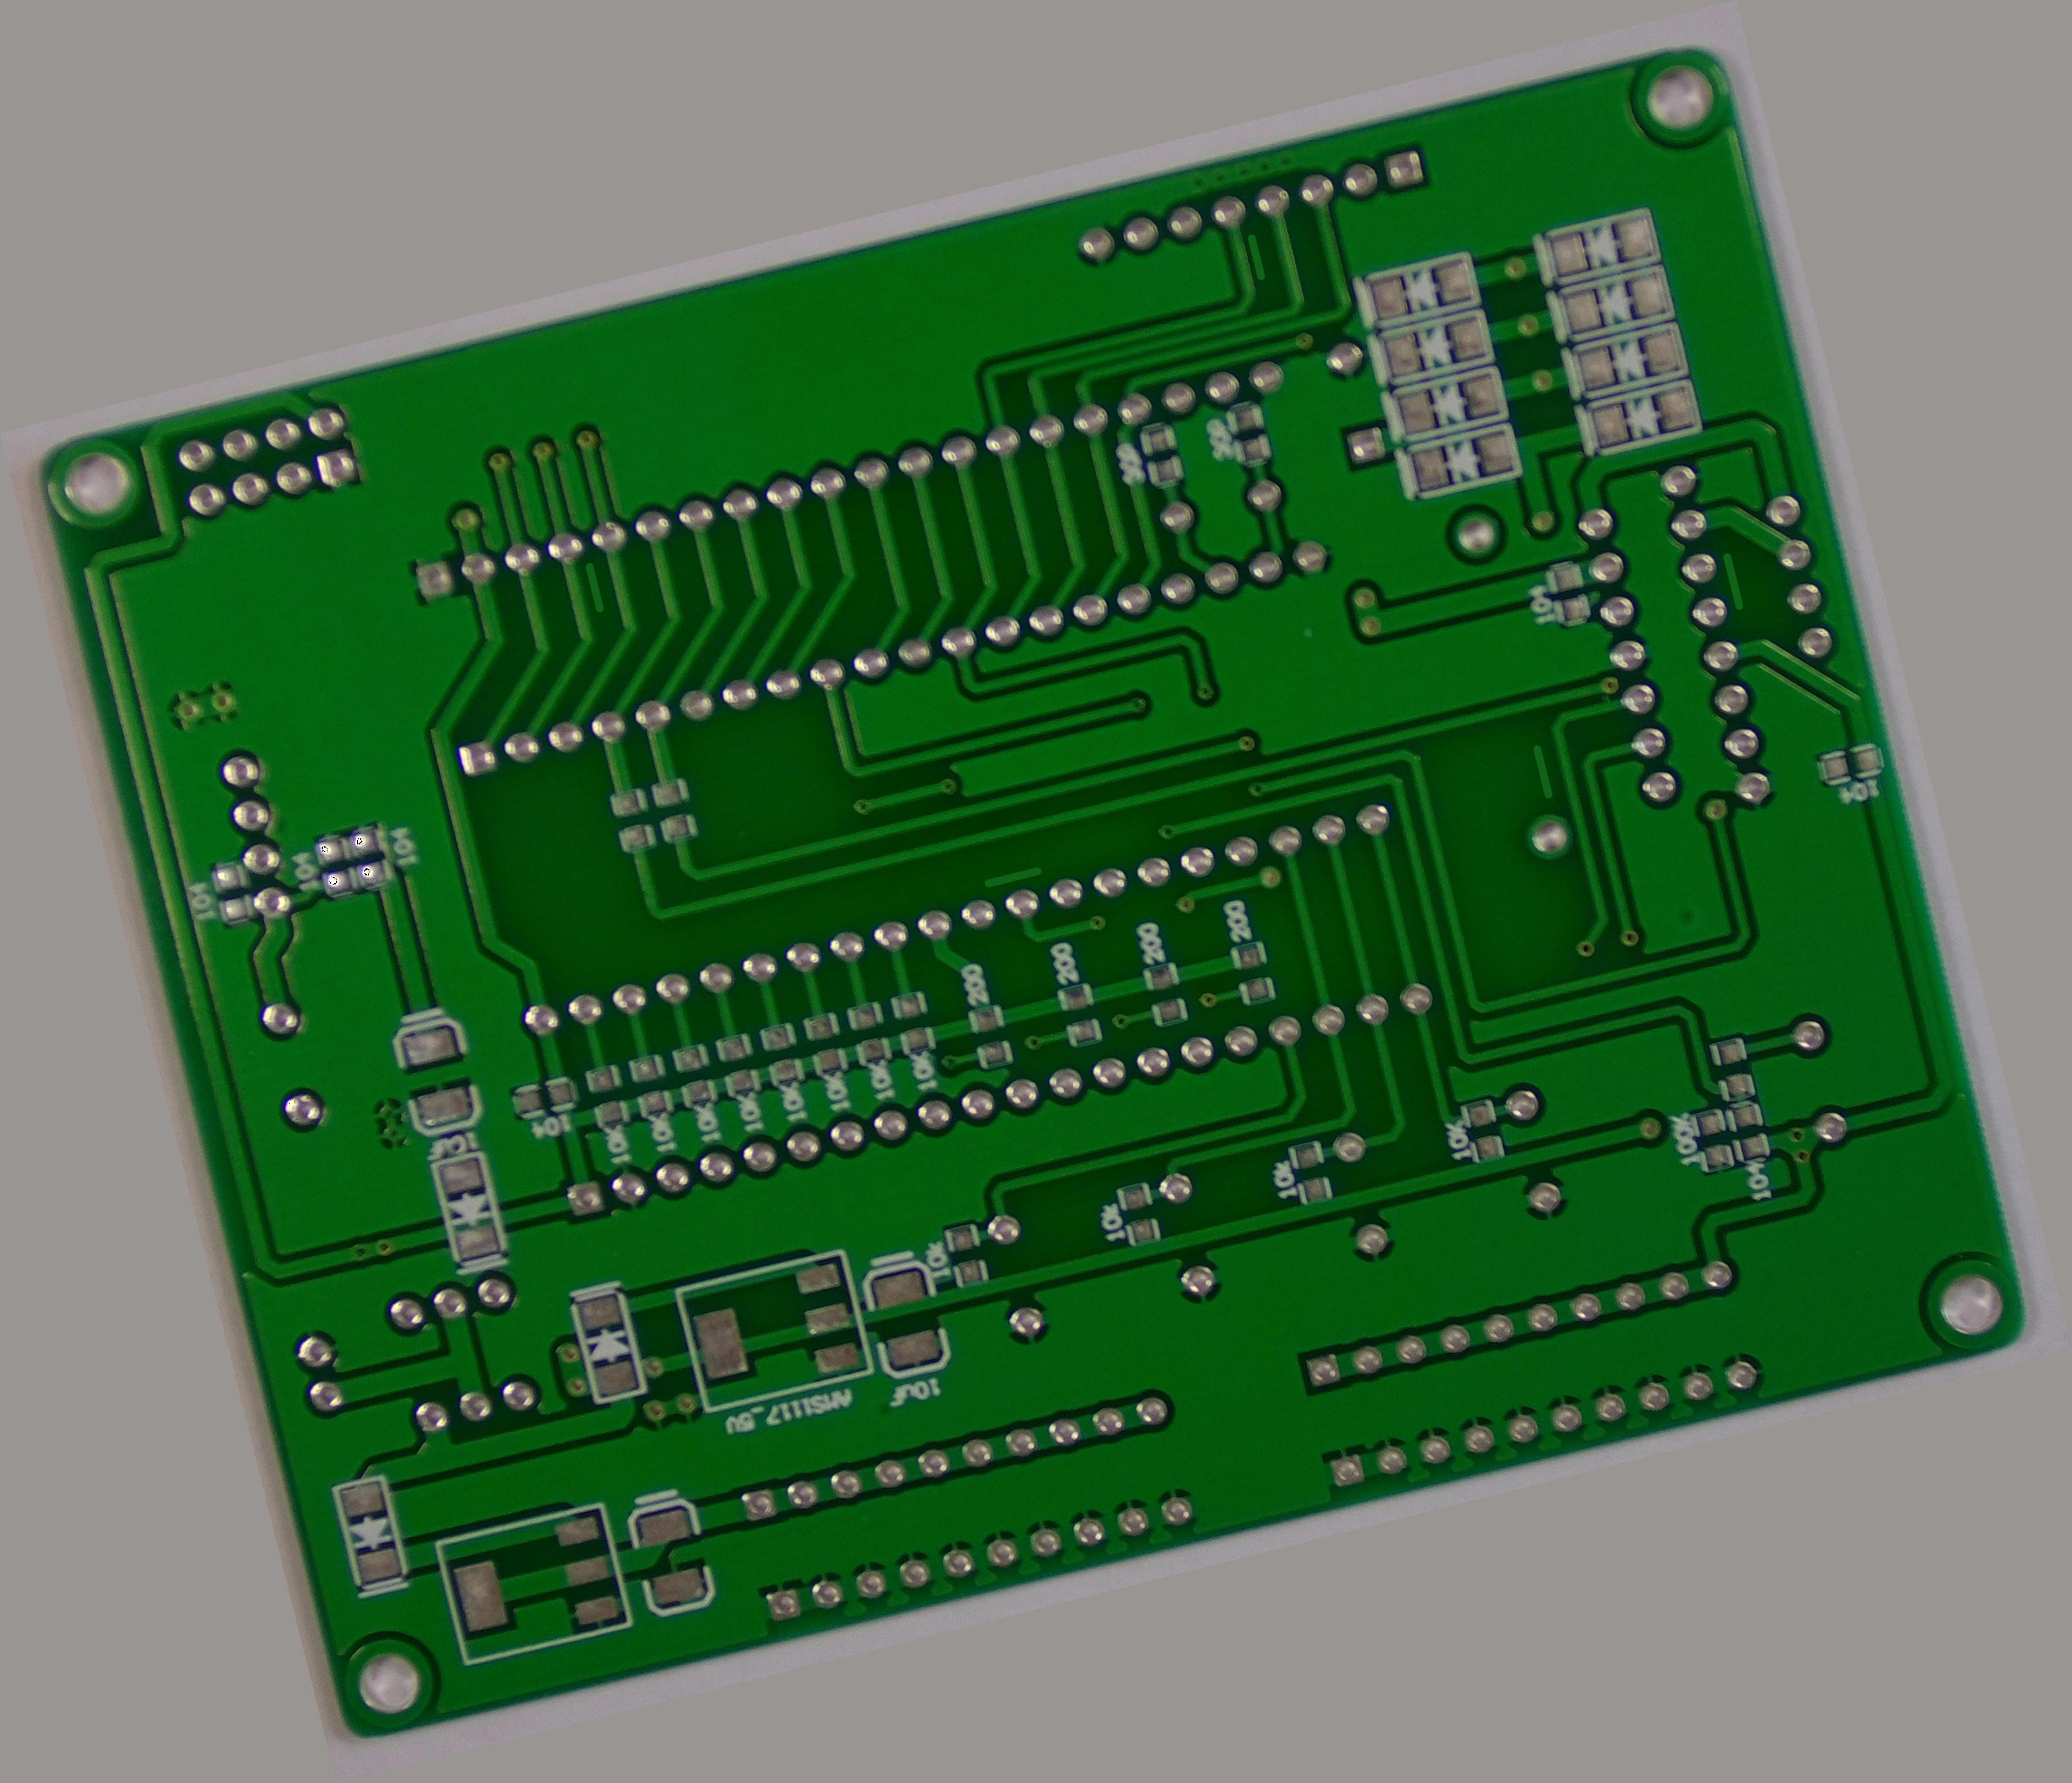spurious_copper: (969, 851, 1054, 906), (1706, 539, 1762, 618), (1519, 733, 1568, 805), (569, 555, 620, 620), (1235, 224, 1277, 292)
